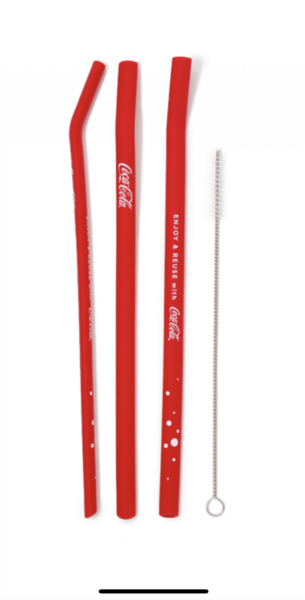Drinking Straw: (63, 57, 109, 521), (155, 50, 195, 520), (112, 58, 140, 521)
